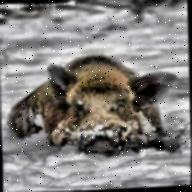boar: (3, 53, 182, 169)
